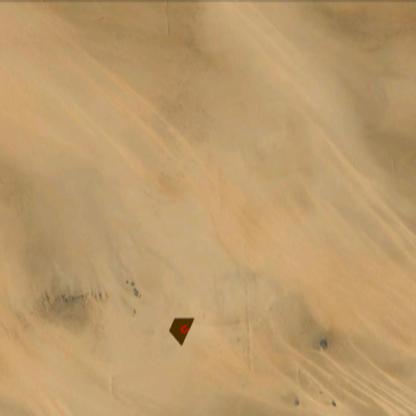trapezium: (166, 315, 195, 346), (180, 324, 191, 335)
